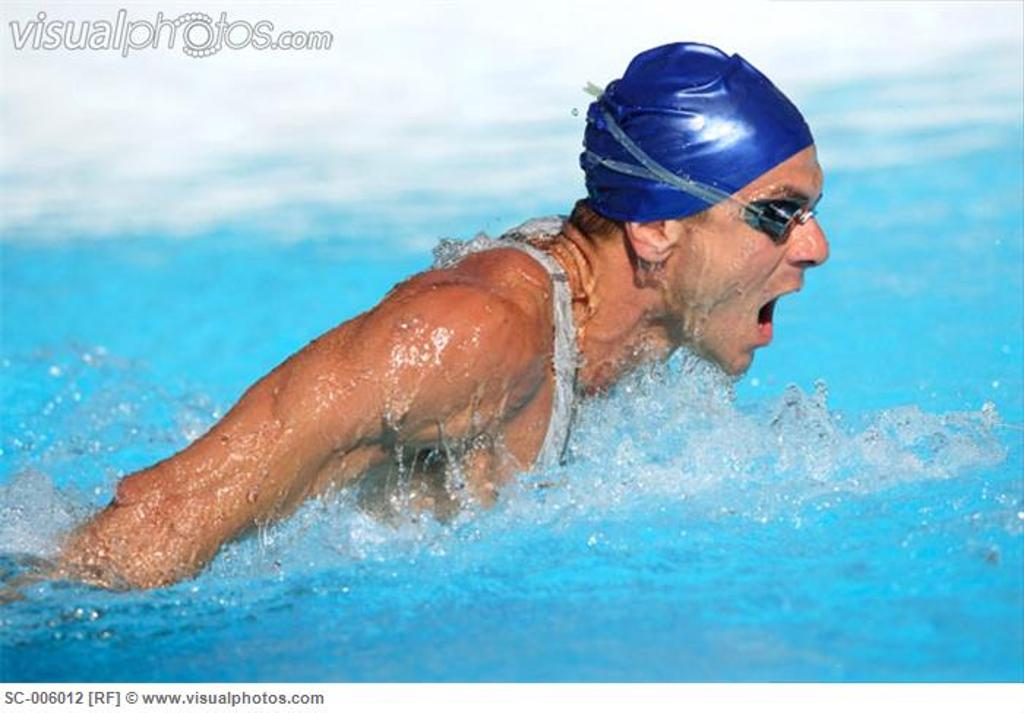face: (686, 154, 830, 376)
